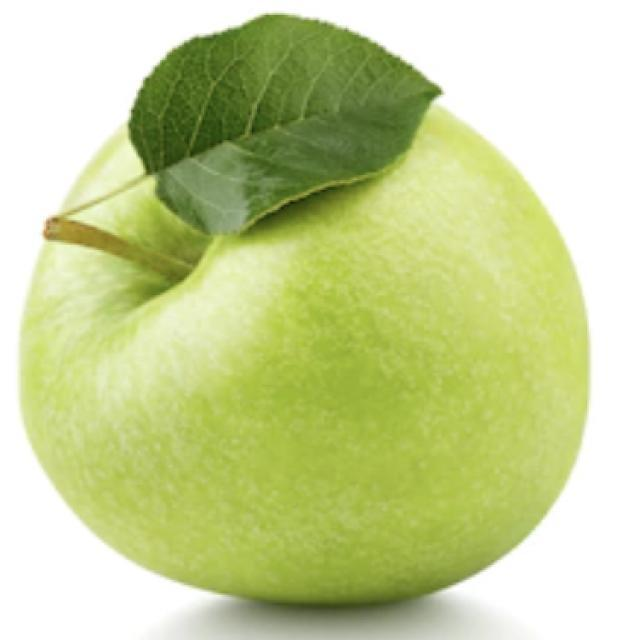Fresh Apple: (60, 93, 603, 595)
